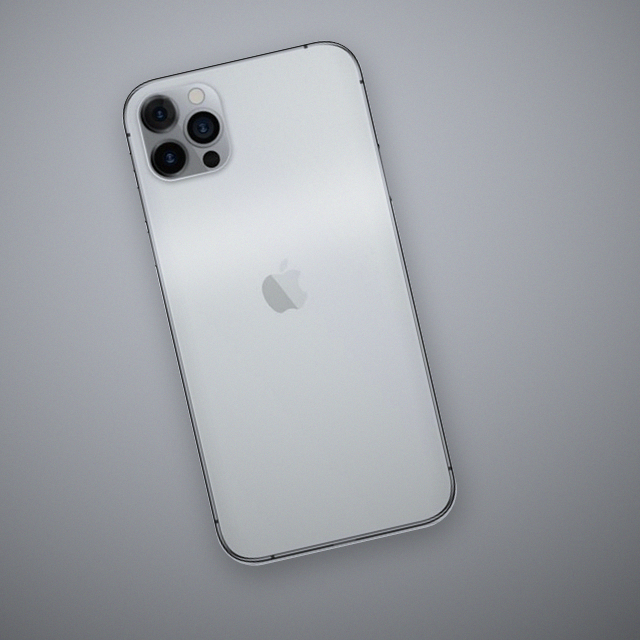iphone_12pro_silver: (115, 26, 476, 579), (138, 80, 238, 181)
